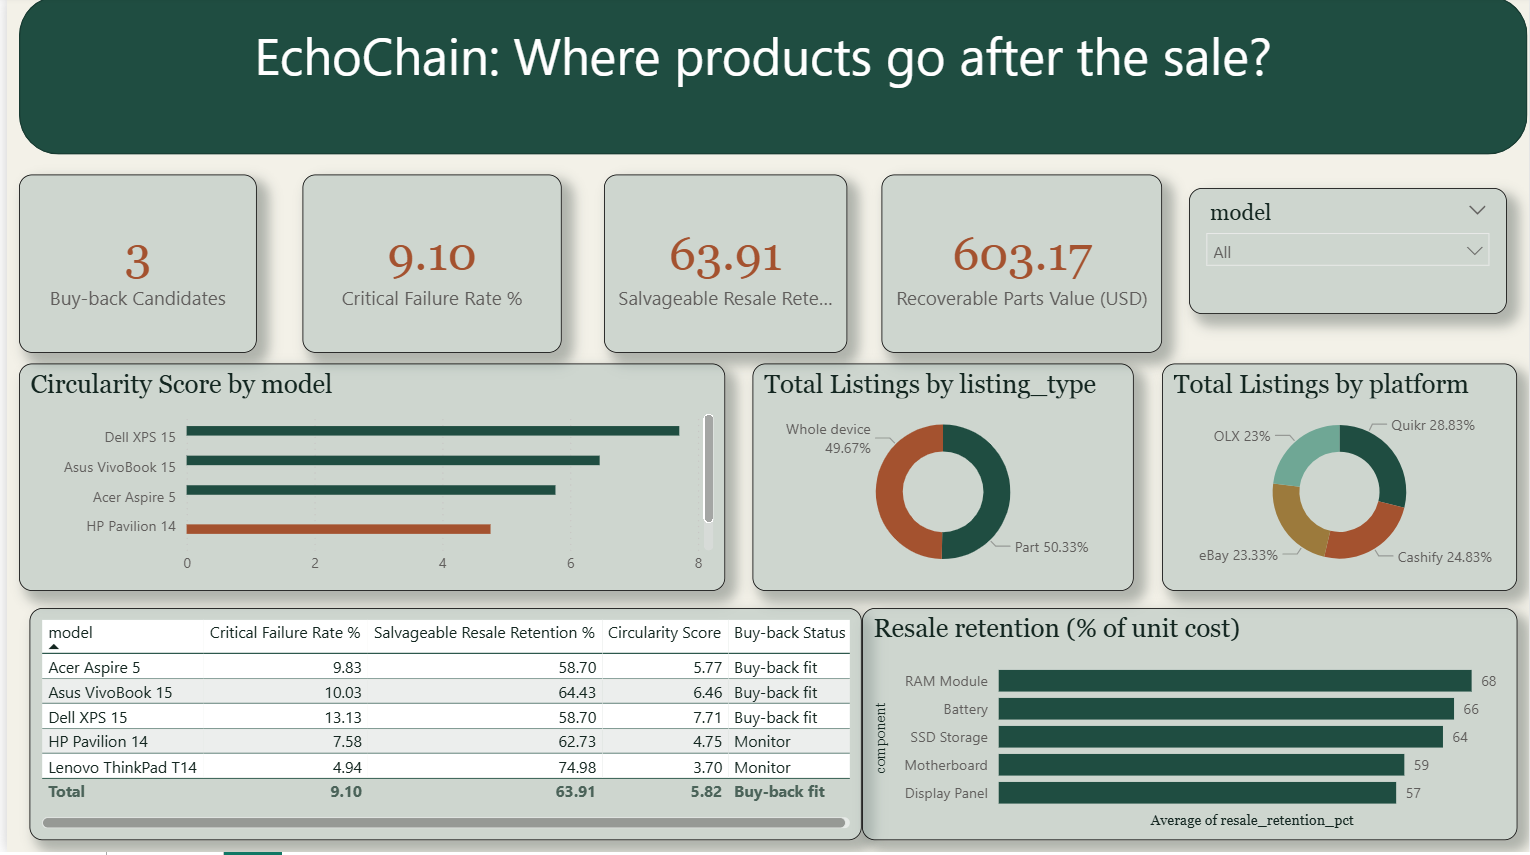

What the dashboard file says about the page in this screenshot:
{"tool":"powerbi","page":{"name":"Report","canvas":[1280,720],"ordinal":0},"visuals":[{"type":"shape","box":[10.6,0,1268.9,133.3],"z":0},{"type":"textbox","box":[10.3,14.7,1251.5,102.9],"z":1000},{"type":"slicer","fields":{"Values":["Models.model"]},"box":[1076.5,172.1,194.1,105.9],"z":2000},{"type":"card","fields":{"Values":["Models.Buy-back Candidates"]},"box":[10.6,149.9,199.9,149.9],"z":3000},{"type":"card","fields":{"Values":["Models.Critical Failure Rate %"]},"box":[248.3,149.9,218,149.9],"z":4000},{"type":"card","fields":{"Values":["Components.Recoverable Parts Value (USD)"]},"box":[735.9,149.9,316.5,149.9],"z":5000},{"type":"card","fields":{"Values":["Models.Salvageable Resale Retention %"]},"box":[502.7,149.9,204.4,149.9],"z":6000},{"type":"clusteredBarChart","title":"Circularity Score by model ","fields":{"Category":["Models.model"],"Y":["Models.Circularity Score"],"Series":["Models.buyback_flag_py"]},"box":[10.3,308.8,594.1,191.2],"z":7000},{"type":"tableEx","fields":{"Values":["Models.model","Models.Critical Failure Rate %","Models.Salvageable Resale Retention %","Models.Circularity Score","Models.Buy-back Status"]},"box":[19.1,514.7,700,195.6],"z":8000},{"type":"donutChart","fields":{"Category":["Listings.platform"],"Y":["Components.Total Listings"]},"box":[972.1,308.8,298.5,191.2],"z":9000},{"type":"donutChart","fields":{"Category":["Listings.listing_type"],"Y":["Components.Total Listings"]},"box":[626.5,308.8,320.6,191.2],"z":10000},{"type":"clusteredBarChart","title":"Resale retention (% of unit cost)","fields":{"Category":["Components.component"],"Y":["Avg(Components.resale_retention_pct)"]},"box":[719.1,514.7,551.5,195.6],"z":11000}]}

Visuals, with their boxes in screenshot pixels (x1, y1, x2, y2), scaled from the page's 1280x720 canvas onto the 1530x855 screenshot:
shape: x1=13 y1=0 x2=1529 y2=158
textbox: x1=12 y1=17 x2=1508 y2=140
slicer - Models.model: x1=1287 y1=204 x2=1519 y2=330
card - Models.Buy-back Candidates: x1=13 y1=178 x2=252 y2=356
card - Models.Critical Failure Rate %: x1=297 y1=178 x2=557 y2=356
card - Components.Recoverable Parts Value (USD): x1=880 y1=178 x2=1258 y2=356
card - Models.Salvageable Resale Retention %: x1=601 y1=178 x2=845 y2=356
"Circularity Score by model " clusteredBarChart: x1=12 y1=367 x2=722 y2=594
tableEx - Models.model x Models.Critical Failure Rate %: x1=23 y1=611 x2=860 y2=843
donutChart - Listings.platform x Components.Total Listings: x1=1162 y1=367 x2=1519 y2=594
donutChart - Listings.listing_type x Components.Total Listings: x1=749 y1=367 x2=1132 y2=594
"Resale retention (% of unit cost)" clusteredBarChart: x1=860 y1=611 x2=1519 y2=843
